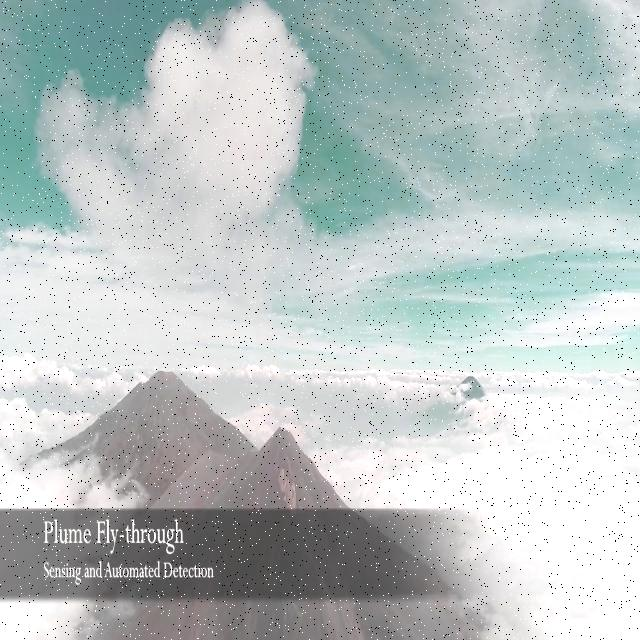Summit: (186, 422, 360, 506)
